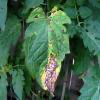Tomato Septoria leaf spot: (26, 8, 73, 97)
